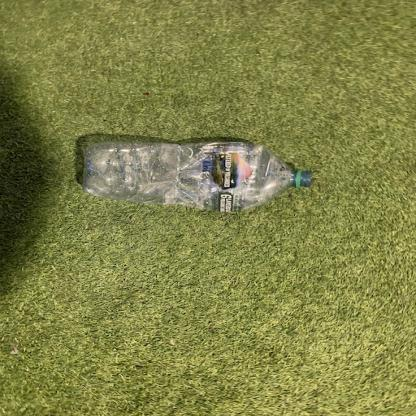trash: (82, 134, 316, 216)
